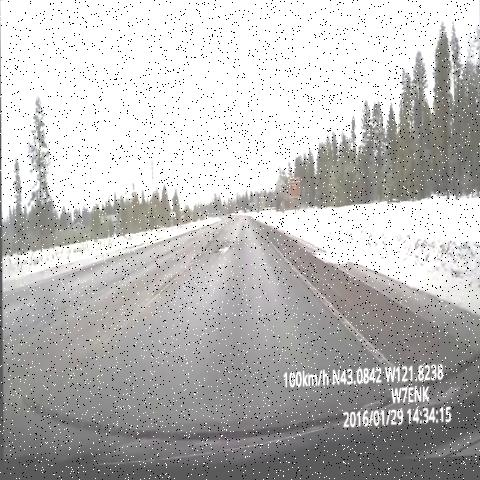pothole: (212, 238, 237, 264)
